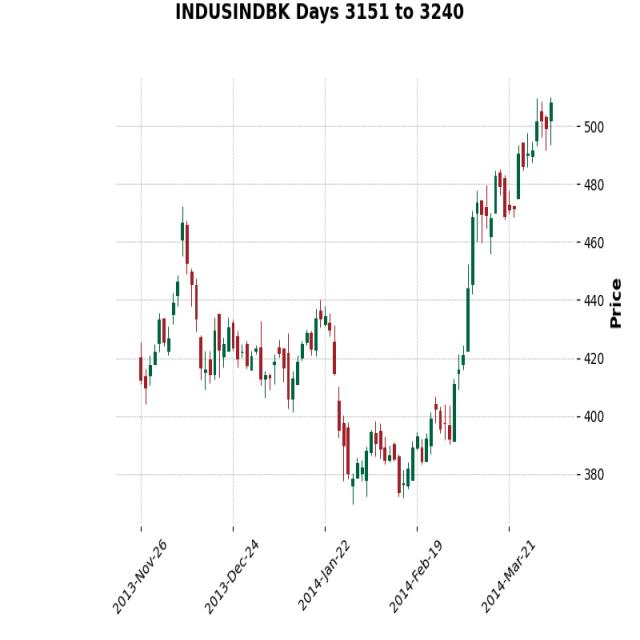Triple Bottom Reversal: (328, 368, 486, 501)
